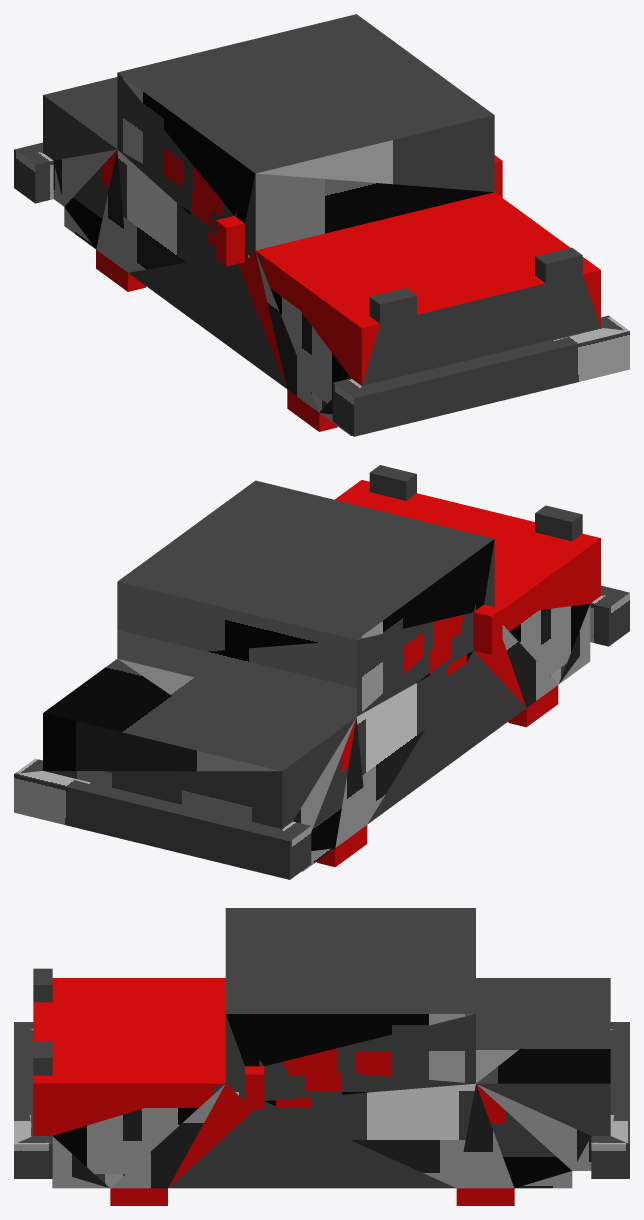
Rendered from veh_car3.fbx.
3 views of the same model, one above another, from view 1: azimuth 30°, elevation 25°; view 2: azimuth 150°, elevation 25°; view 3: azimuth 270°, elevation 25° (orthographic). The views are drawn at different scales.
Visible parts, largest first — view 1: veh_car3; view 2: veh_car3; view 3: veh_car3.
Part boxes in pixels (x1,y1,x2,y2): veh_car3: (14,14,629,436); veh_car3: (14,465,629,879); veh_car3: (14,908,629,1205).
Size of the model in its own units: 1.5 by 3.2 by 1.1.
